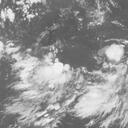cyclone: (27, 52, 99, 120)
